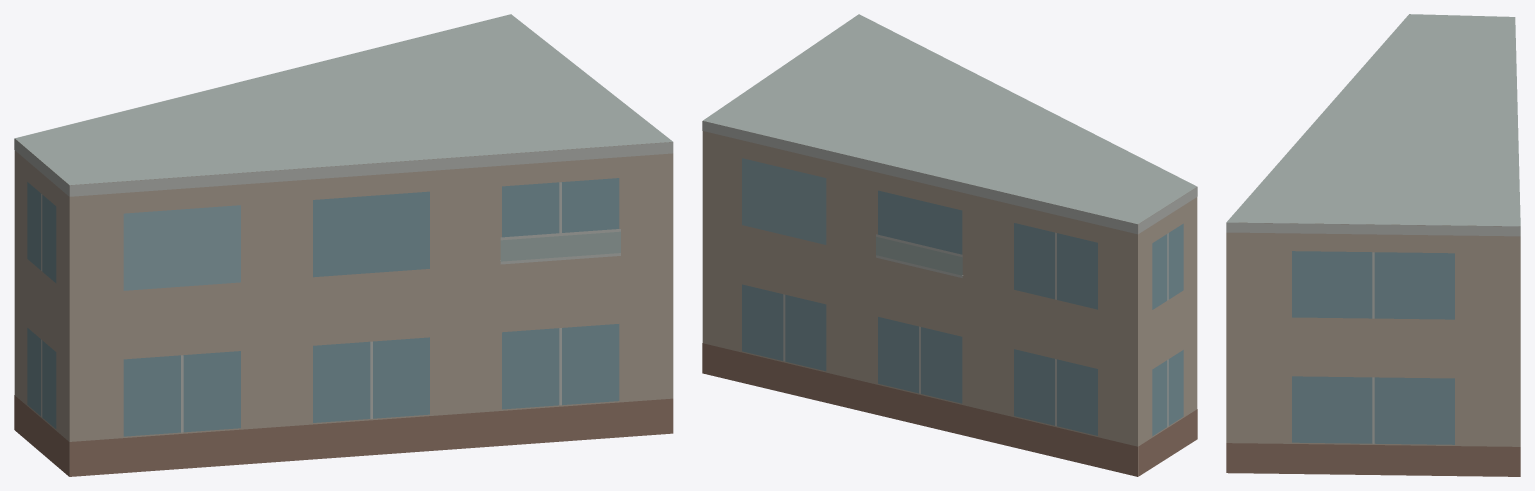
Rendered from survey-upis-32911049.glb.
3 views of the same model, side by side, from view 1: azimuth 30°, elevation 25°; view 2: azimuth 150°, elevation 25°; view 3: azimuth 270°, elevation 25° (orthographic). The views are drawn at different scales.
Visible parts, largest first — view 1: survey-upis-32911049.tmp; view 2: survey-upis-32911049.tmp; view 3: survey-upis-32911049.tmp.
Part boxes in pixels (bbox=[...]): survey-upis-32911049.tmp: bbox=[14, 14, 673, 476]; survey-upis-32911049.tmp: bbox=[702, 14, 1197, 476]; survey-upis-32911049.tmp: bbox=[1226, 14, 1520, 476].
Bounding box in the file's own units: 11.1 × 6.1 × 6.51.
